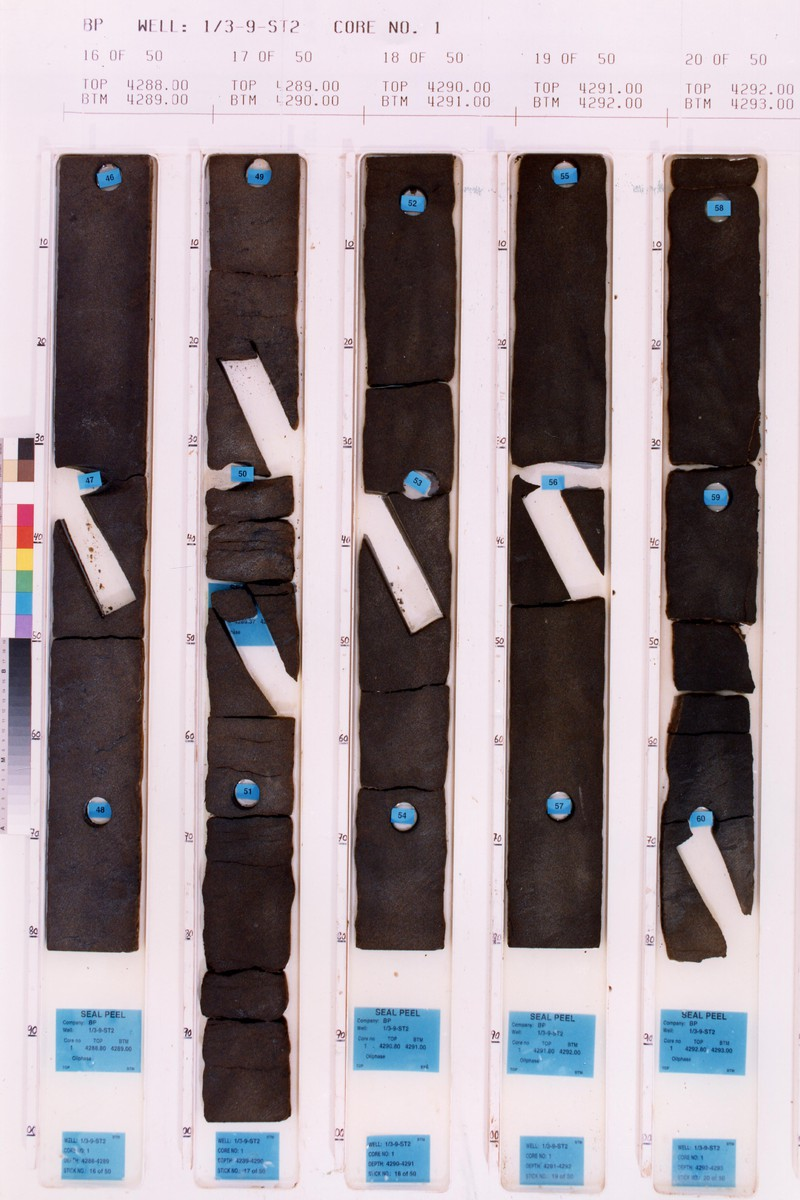core: (198, 151, 299, 1126), (500, 151, 612, 952), (42, 151, 151, 954), (356, 153, 462, 952), (660, 153, 761, 969)
